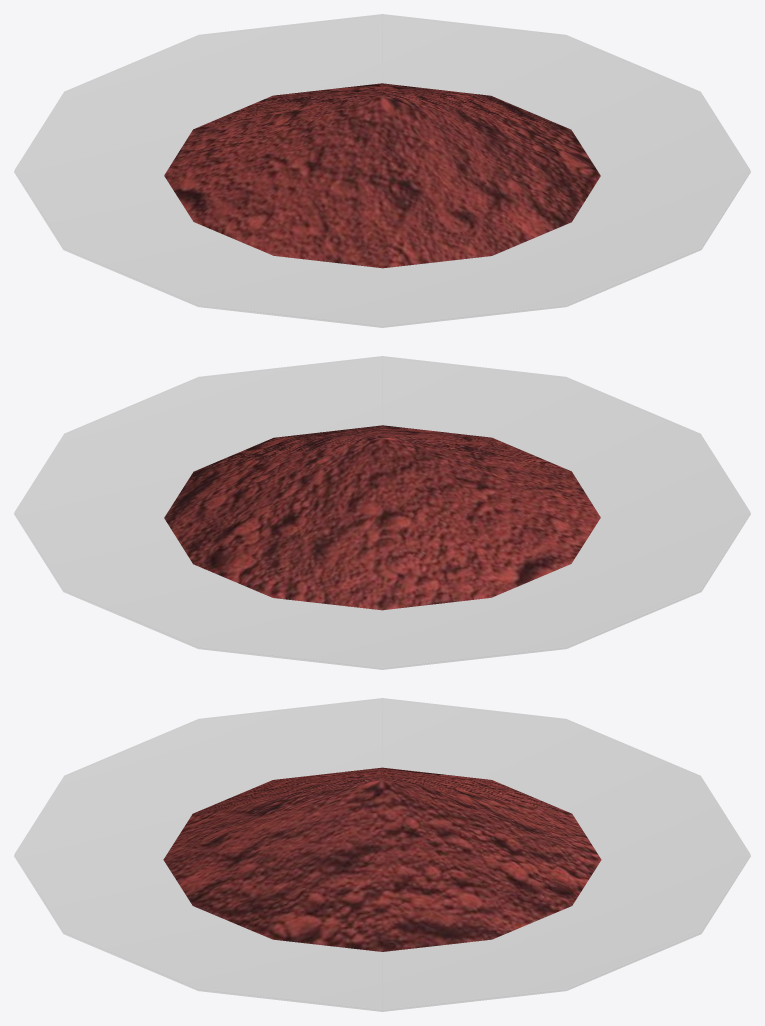
File: ferric oxide.fbx
3 views of the same model, one above another, from view 1: azimuth 30°, elevation 25°; view 2: azimuth 150°, elevation 25°; view 3: azimuth 270°, elevation 25° (orthographic).
Parts seen in each view (by area): view 1: ferric_oxide; view 2: ferric_oxide; view 3: ferric_oxide.
Part boxes in pixels (x1,y1,x2,y2): ferric_oxide: (14,14,750,327); ferric_oxide: (14,356,750,669); ferric_oxide: (14,698,750,1011).
Size of the model in its own units: 19.28 by 2.87 by 19.28.
Materials: 2 (1 with a texture image).
